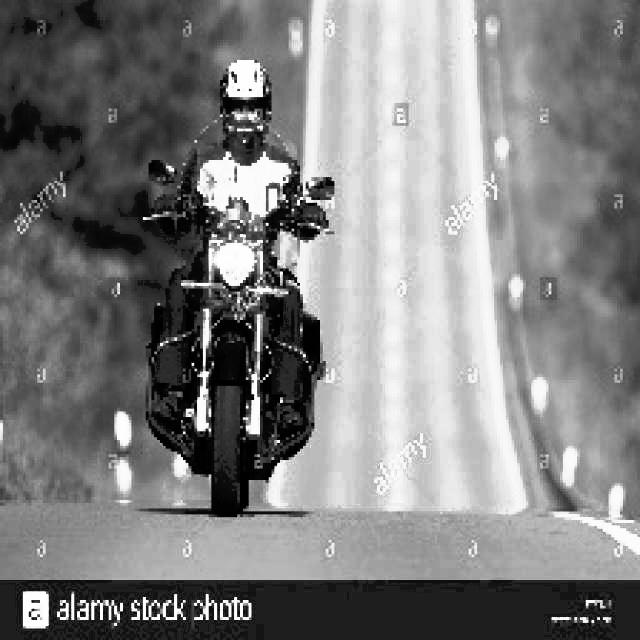Bike: (159, 175, 327, 523)
